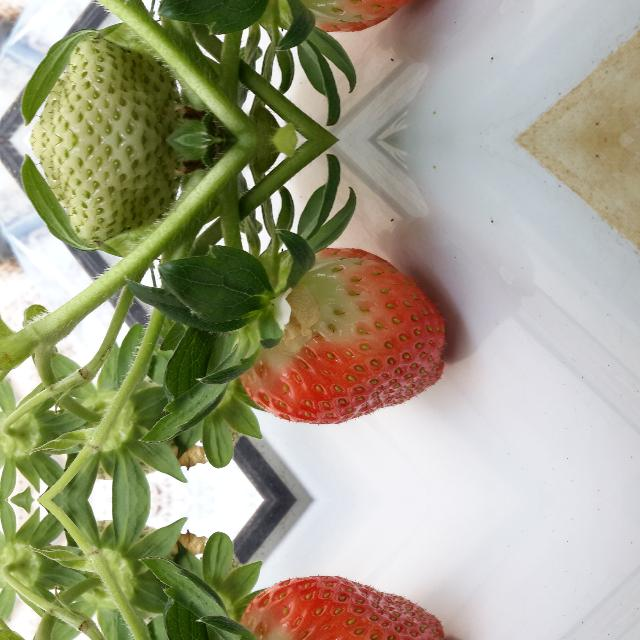Health_100: (238, 248, 446, 424), (238, 575, 446, 640)
Health_25: (26, 141, 180, 243), (26, 37, 180, 139)
